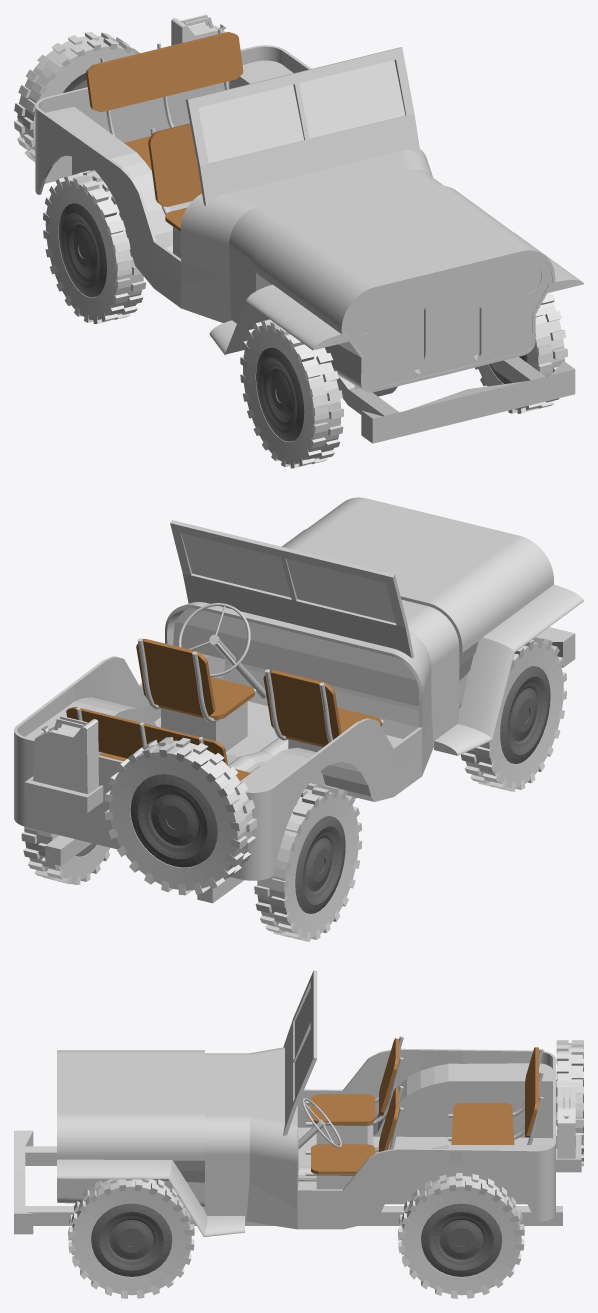
The model's file is Jeep_Willys.fbx.
3 renders of one model, top to bottom at view 1: azimuth 30°, elevation 25°; view 2: azimuth 150°, elevation 25°; view 3: azimuth 270°, elevation 25°, orthographic. The views are drawn at different scales.
Parts seen in each view (by area): view 1: Body, Tire, Seats, Glass, Disk, Canister; view 2: Body, Tire, Disk, Seats, Glass, Canister; view 3: Body, Tire, Disk, Seats, Canister, Glass.
Part boxes in pixels (bbox=[...]): Body: bbox=[35, 28, 583, 443]; Tire: bbox=[14, 32, 568, 468]; Seats: bbox=[86, 32, 243, 231]; Glass: bbox=[198, 60, 405, 163]; Disk: bbox=[58, 72, 527, 441]; Canister: bbox=[171, 14, 225, 45]; Body: bbox=[14, 497, 583, 903]; Tire: bbox=[21, 636, 566, 941]; Disk: bbox=[75, 666, 550, 913]; Seats: bbox=[66, 638, 381, 780]; Glass: bbox=[181, 533, 395, 622]; Canister: bbox=[33, 716, 98, 794]; Body: bbox=[14, 970, 581, 1236]; Tire: bbox=[68, 1040, 583, 1298]; Disk: bbox=[91, 1068, 583, 1276]; Seats: bbox=[310, 1038, 538, 1174]; Canister: bbox=[557, 1084, 575, 1158]; Glass: bbox=[294, 988, 310, 1098].
Bounding box in the file's own units: 283 × 279 × 616.
